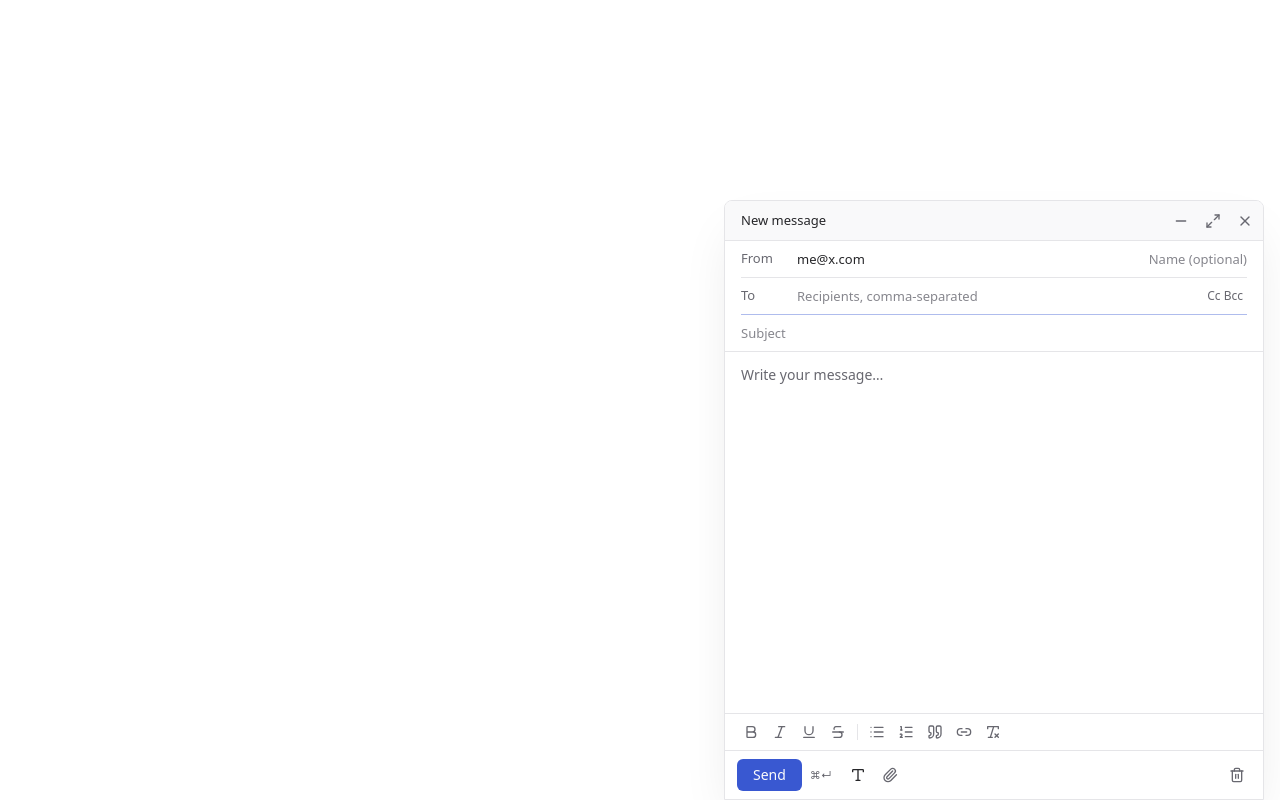
Test: ComposeWindow — drafts › auto-saves to a browser draft while typing
Step 1. Type "Draft me" into the field labelled "Subject" → (994, 333), box [741,315,1247,351]
Wait 1000 ms
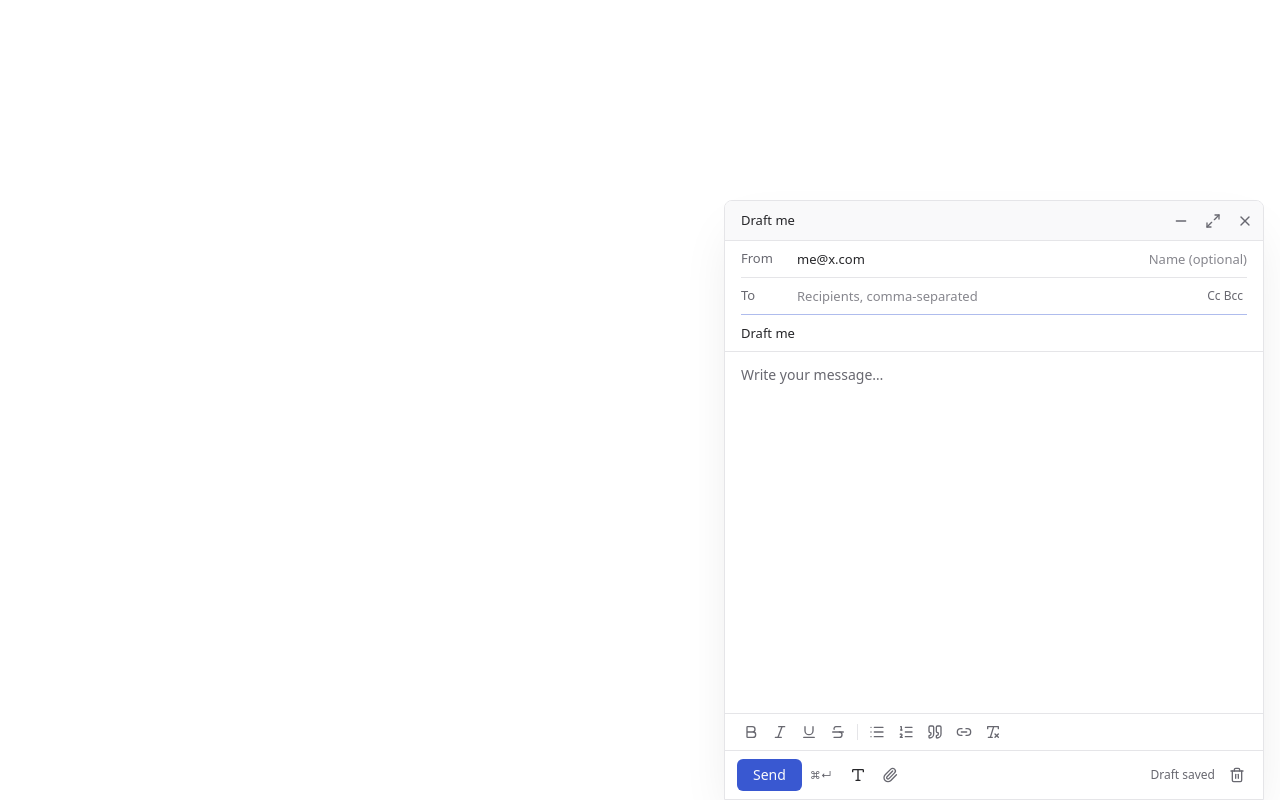
Expected: the text "Draft saved" is shown, [1150,767,1215,783]
